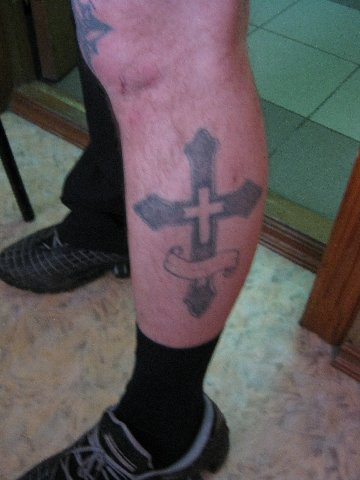tatu9_krest: (126, 123, 264, 336)
